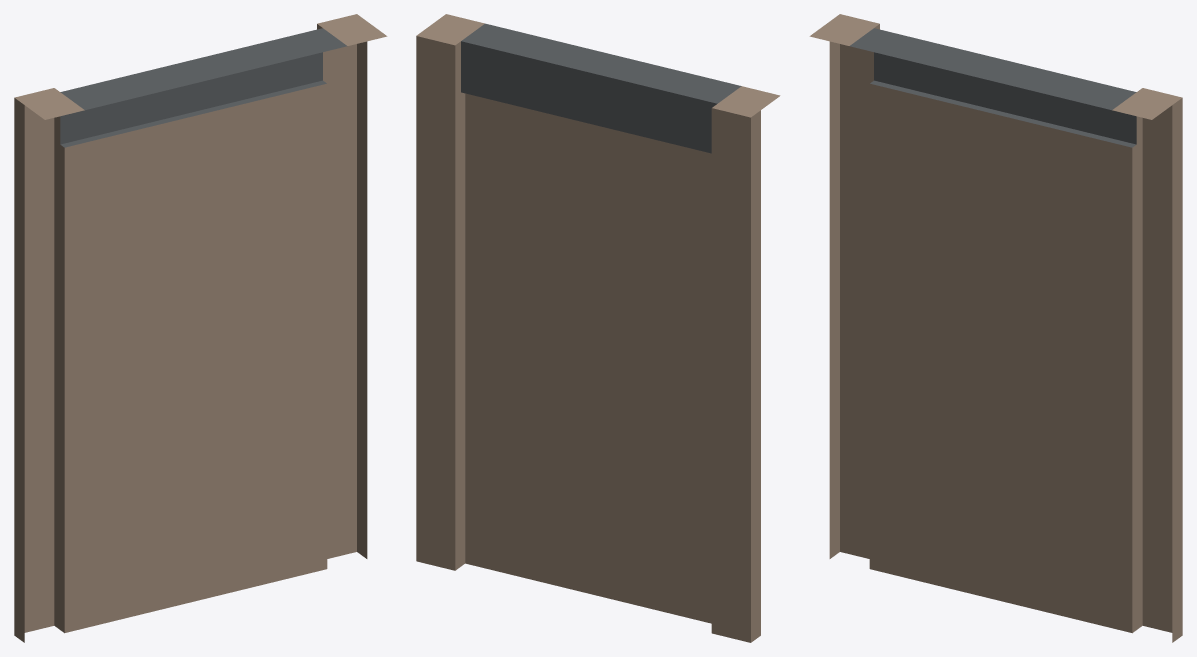
The model's file is Pillar_wall.fbx.
3 renders of one model, left to right at view 1: azimuth 30°, elevation 25°; view 2: azimuth 150°, elevation 25°; view 3: azimuth 330°, elevation 25°, orthographic. The views are drawn at different scales.
Visible parts, largest first — view 1: Wall_1.001; view 2: Wall_1.001; view 3: Wall_1.001.
Boxes of the visible parts, x1=… form: Wall_1.001: x1=14, y1=14, x2=387, y2=642; Wall_1.001: x1=416, y1=14, x2=780, y2=642; Wall_1.001: x1=809, y1=14, x2=1182, y2=642.
Size of the model in its own units: 200 by 300 by 31.
